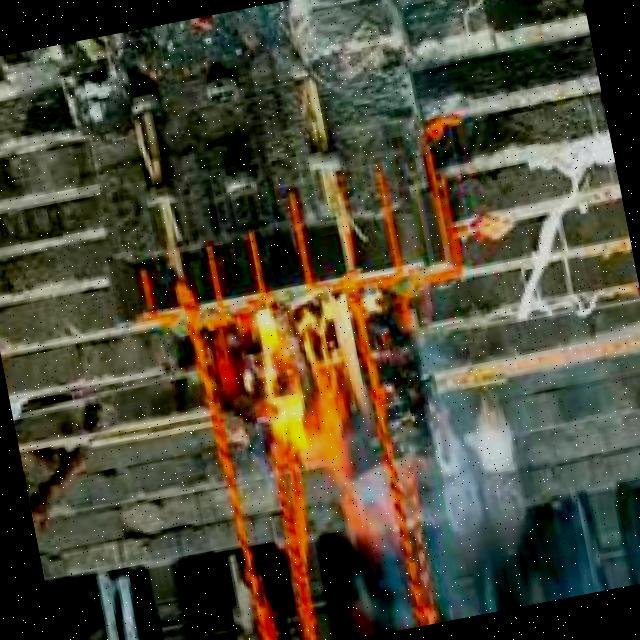fire: (237, 288, 388, 483)
